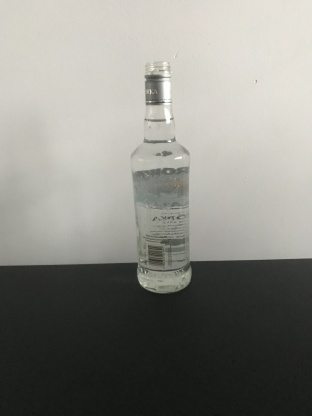nakretka: (143, 60, 173, 106)
